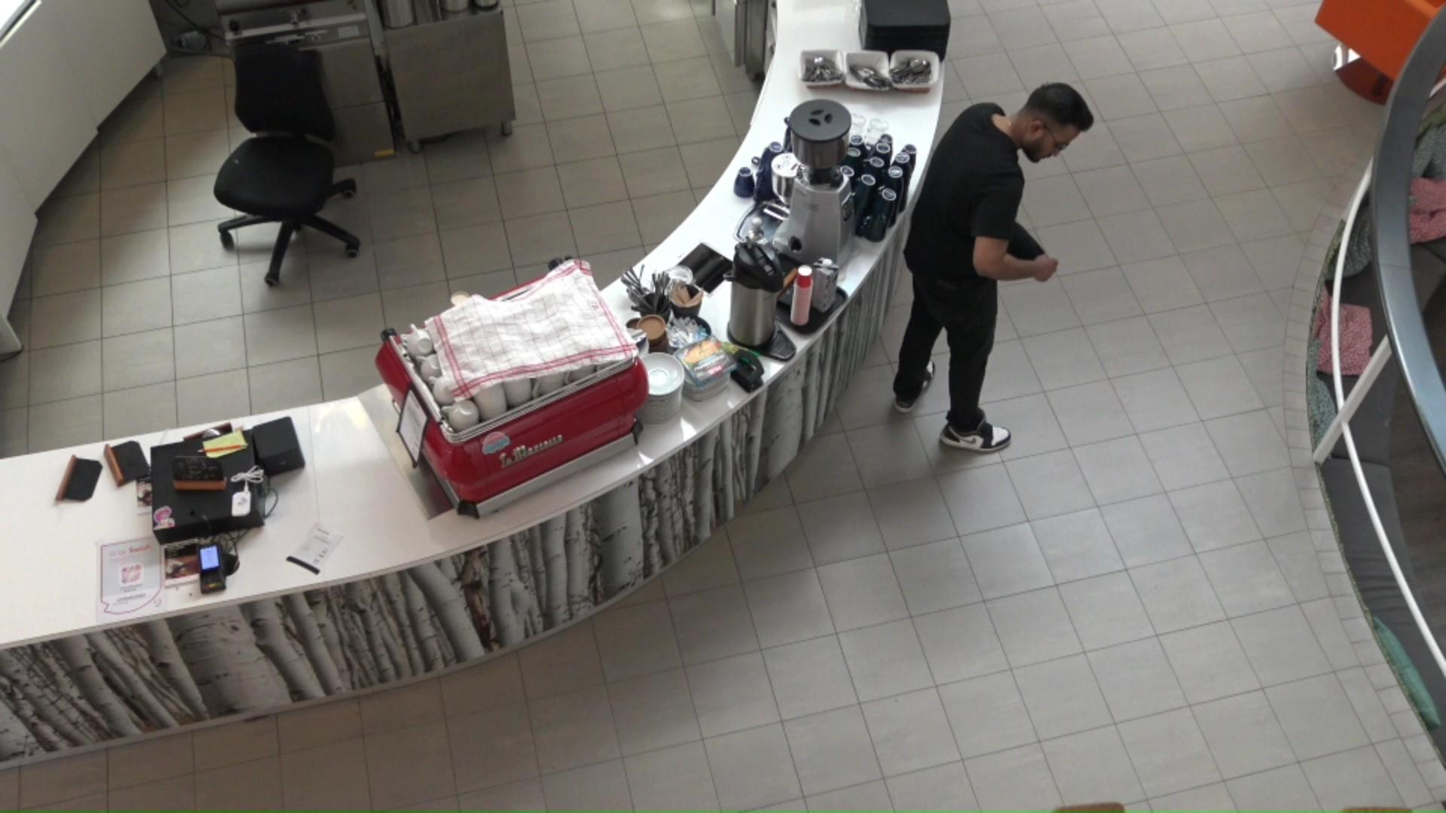shoplifting: (906, 76, 1093, 456)
